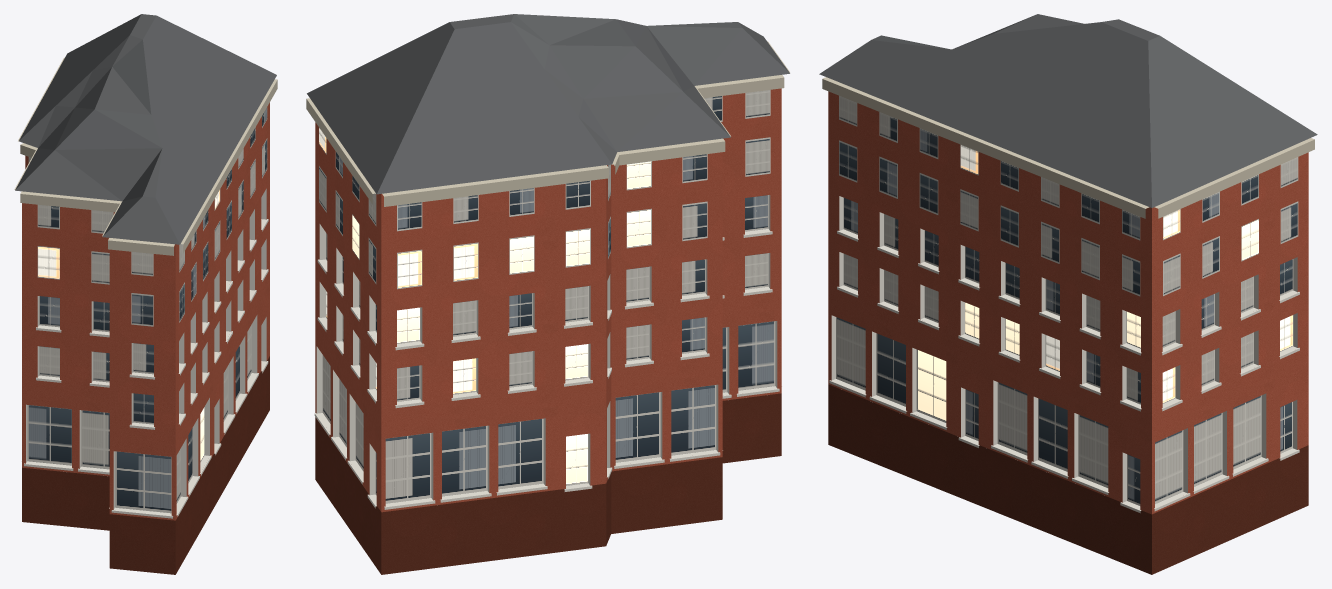
File: z2_fabrik17.glb
3 views of the same model, side by side, from view 1: azimuth 30°, elevation 25°; view 2: azimuth 150°, elevation 25°; view 3: azimuth 270°, elevation 25° (orthographic). The views are drawn at different scales.
Parts seen in each view (by area): view 1: z2_fabrik17; view 2: z2_fabrik17; view 3: z2_fabrik17.
Part boxes in pixels (box(x1,y1,x2,y2)): z2_fabrik17: box(14, 14, 277, 574); z2_fabrik17: box(306, 14, 789, 574); z2_fabrik17: box(819, 14, 1317, 574).
Bounding box in the file's own units: 18.22 × 23.4 × 22.44.
3 materials, 3 textured.
